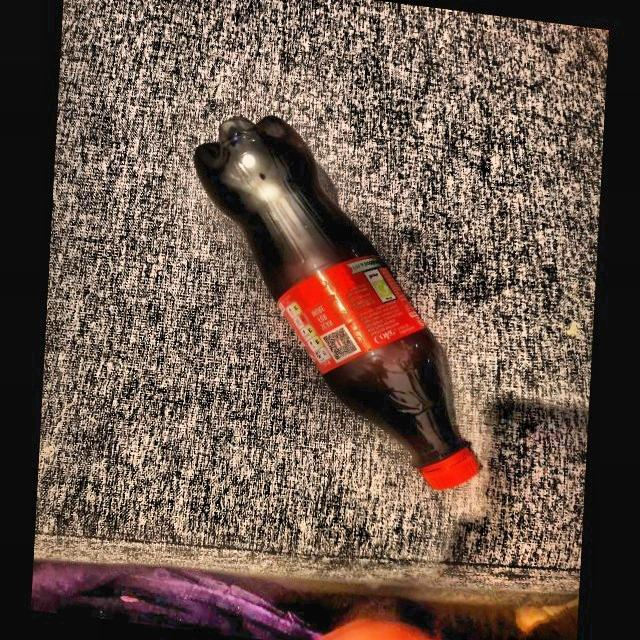coke-bottle: (182, 111, 484, 504)
